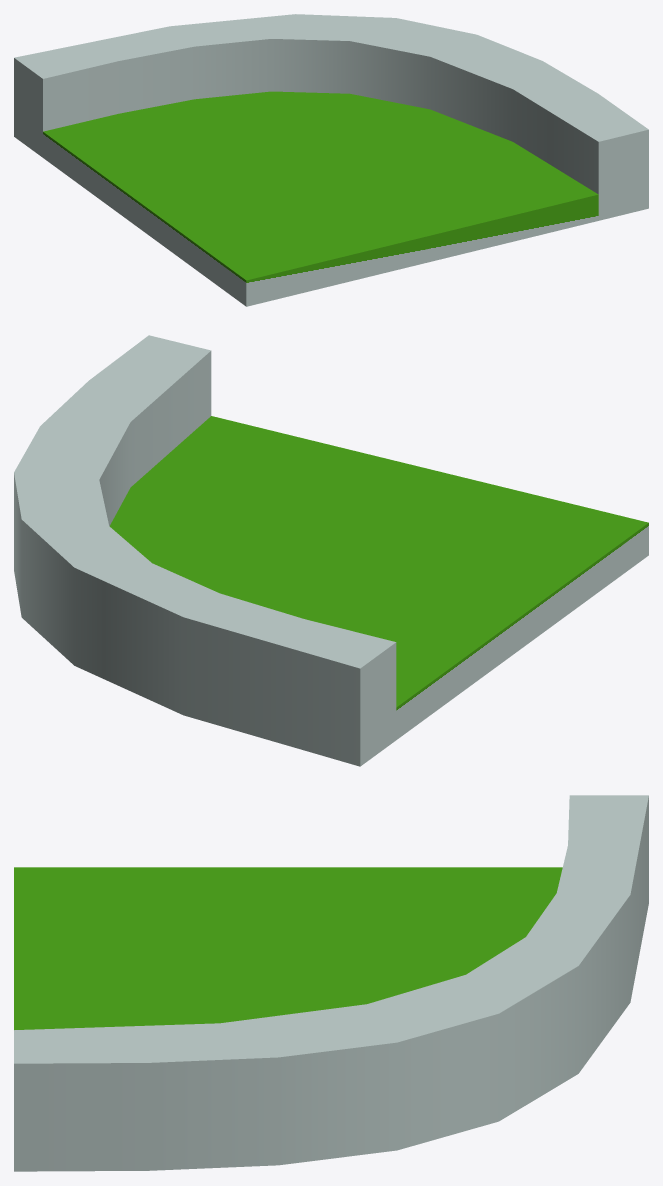
File: Curva C.fbx
The picture shows the model from 3 angles, top to bottom: view 1: azimuth 30°, elevation 25°; view 2: azimuth 150°, elevation 25°; view 3: azimuth 270°, elevation 25°; orthographic projection. The views are drawn at different scales.
Visible parts, largest first — view 1: Curva C; view 2: Curva C; view 3: Curva C.
Part boxes in pixels (x1,y1,x2,y2): Curva C: [14, 14, 648, 306]; Curva C: [14, 335, 648, 766]; Curva C: [14, 795, 648, 1171].
Size of the model in its own units: 80 by 15 by 80.
Materials: 1 (1 with a texture image).
